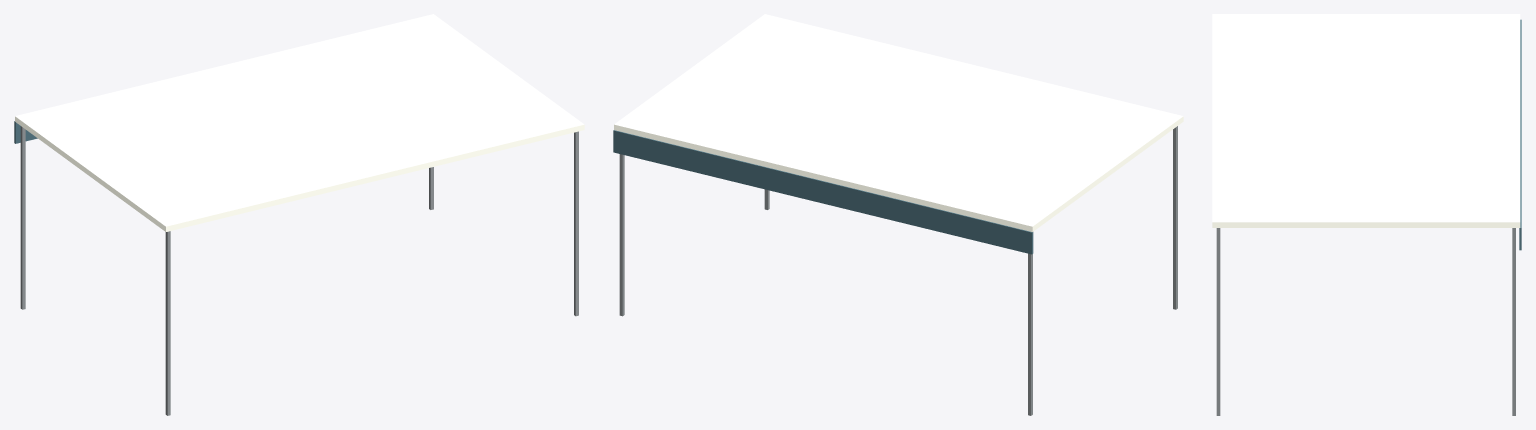
The model's file is endurance-and-gt-paddock-transporter-awning-11566896__14905.glb.
3 views of the same model, side by side, from view 1: azimuth 30°, elevation 25°; view 2: azimuth 150°, elevation 25°; view 3: azimuth 270°, elevation 25° (orthographic).
Parts seen in each view (by area): view 1: transporter-awning; view 2: transporter-awning; view 3: transporter-awning.
Boxes of the visible parts, <box> form: transporter-awning: <box>14,14,584,415</box>; transporter-awning: <box>613,14,1183,415</box>; transporter-awning: <box>1212,14,1521,415</box>.
Size of the model in its own units: 8 by 3.5 by 5.02.
